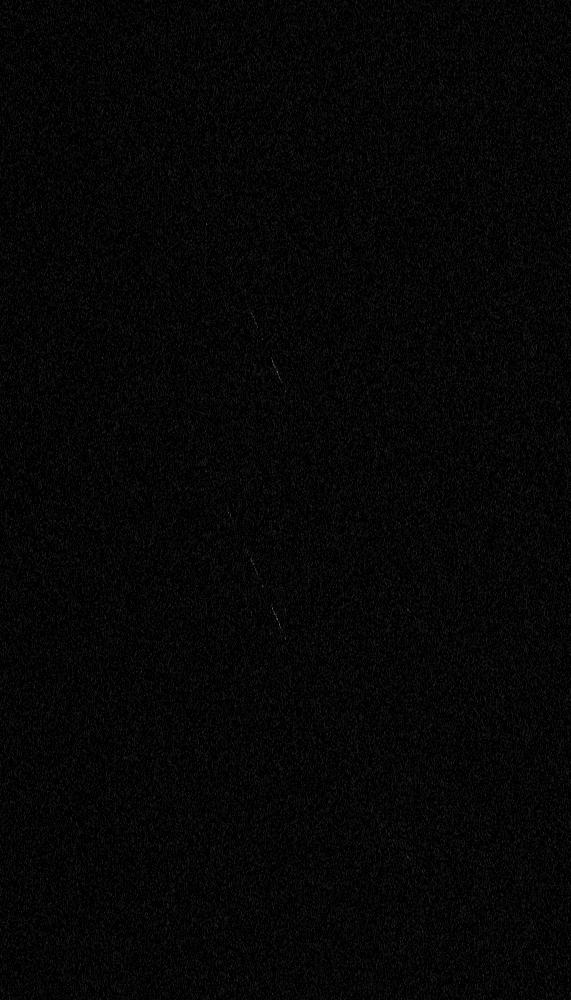signal: (0, 0, 570, 999)
